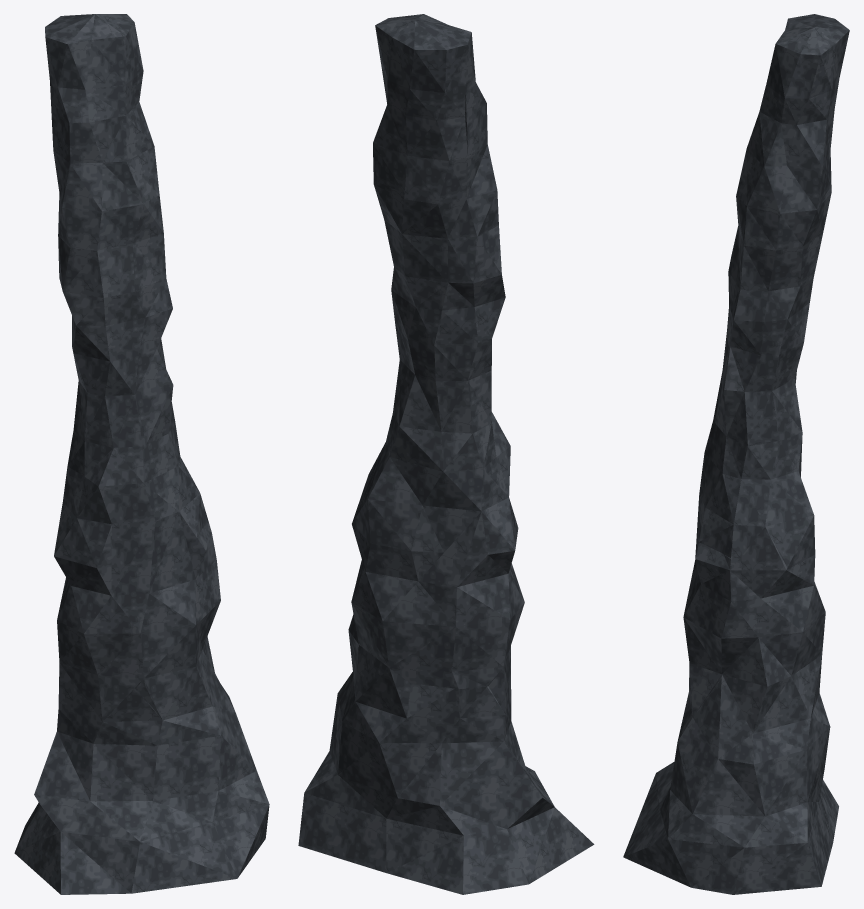
File: rock_spire1_v1.fbx
The picture shows the model from 3 angles, left to right: view 1: azimuth 30°, elevation 25°; view 2: azimuth 150°, elevation 25°; view 3: azimuth 270°, elevation 25°; orthographic projection. The views are drawn at different scales.
Visible parts, largest first — view 1: rock_spire1_v1_s0_lod0, rock_spire1_v1_s1_lod0, rock_spire1_v1_s5_lod0, rock_spire1_v1_s4_lod0, rock_spire1_v1_s2_lod0, rock_spire1_v1_s3_lod0; view 2: rock_spire1_v1_s0_lod0, rock_spire1_v1_s1_lod0, rock_spire1_v1_s2_lod0, rock_spire1_v1_s5_lod0, rock_spire1_v1_s4_lod0, rock_spire1_v1_s3_lod0; view 3: rock_spire1_v1_s0_lod0, rock_spire1_v1_s1_lod0, rock_spire1_v1_s5_lod0, rock_spire1_v1_s2_lod0, rock_spire1_v1_s4_lod0, rock_spire1_v1_s3_lod0.
Boxes of the visible parts, x1,y1,x2,y2 form: rock_spire1_v1_s0_lod0: (14,636,269,894); rock_spire1_v1_s1_lod0: (54,523,220,689); rock_spire1_v1_s5_lod0: (45,14,157,187); rock_spire1_v1_s4_lod0: (57,178,172,344); rock_spire1_v1_s2_lod0: (54,423,208,557); rock_spire1_v1_s3_lod0: (72,321,175,446); rock_spire1_v1_s0_lod0: (298,634,594,894); rock_spire1_v1_s1_lod0: (348,521,524,688); rock_spire1_v1_s2_lod0: (353,412,516,555); rock_spire1_v1_s5_lod0: (373,14,492,193); rock_spire1_v1_s4_lod0: (373,168,505,324); rock_spire1_v1_s3_lod0: (392,298,497,427); rock_spire1_v1_s0_lod0: (623,666,838,894); rock_spire1_v1_s1_lod0: (683,521,825,690); rock_spire1_v1_s5_lod0: (740,14,849,205); rock_spire1_v1_s2_lod0: (697,421,815,566); rock_spire1_v1_s4_lod0: (728,176,831,330); rock_spire1_v1_s3_lod0: (713,315,807,446).
Size of what is drawn, in the model's own units: 1055 by 3598 by 916.
